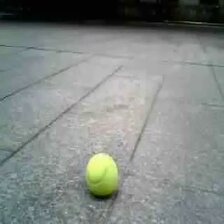tennis: (85, 153, 117, 194)
